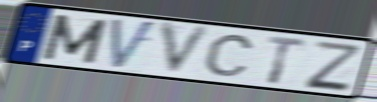C: (202, 33, 257, 78)
M: (39, 12, 111, 66)
T: (264, 34, 308, 87)
V: (158, 20, 216, 79), (109, 16, 159, 72)
Z: (303, 38, 361, 91)
